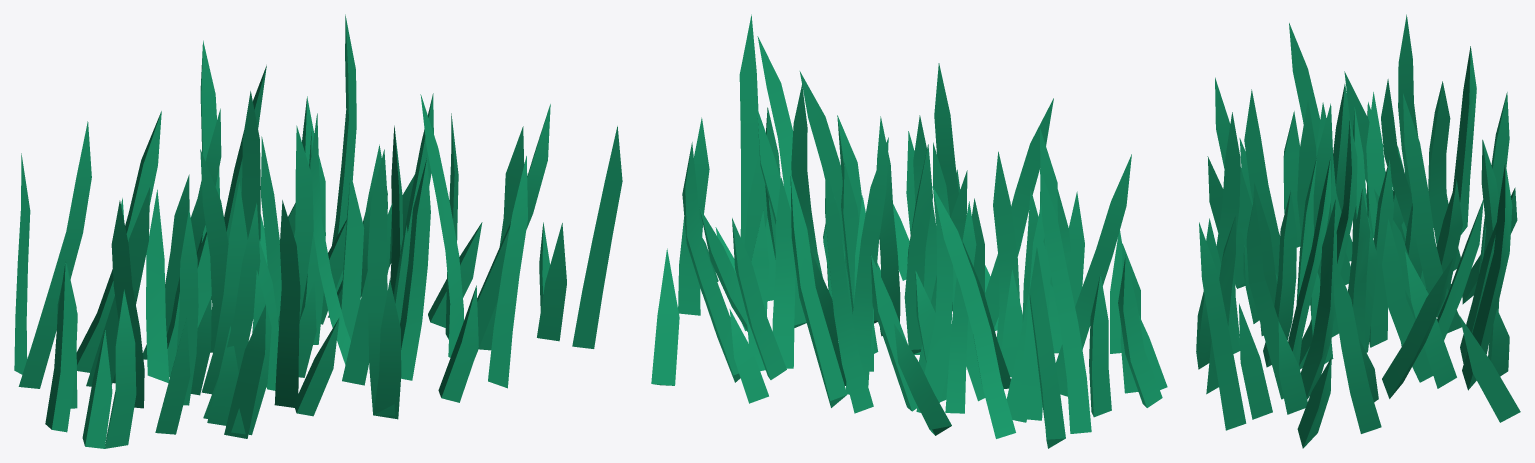
Rendered from coral_seagrass_A_ultralight.fbx.
The picture shows the model from 3 angles, left to right: view 1: azimuth 30°, elevation 25°; view 2: azimuth 150°, elevation 25°; view 3: azimuth 270°, elevation 25°; orthographic projection. The views are drawn at different scales.
Parts seen in each view (by area): view 1: coral_seagrass_A_ultralight; view 2: coral_seagrass_A_ultralight; view 3: coral_seagrass_A_ultralight.
Part boxes in pixels (bbox=[...]): coral_seagrass_A_ultralight: bbox=[14, 14, 622, 448]; coral_seagrass_A_ultralight: bbox=[651, 14, 1167, 448]; coral_seagrass_A_ultralight: bbox=[1196, 14, 1520, 448].
Bounding box in the file's own units: 106 × 55.95 × 64.49.
